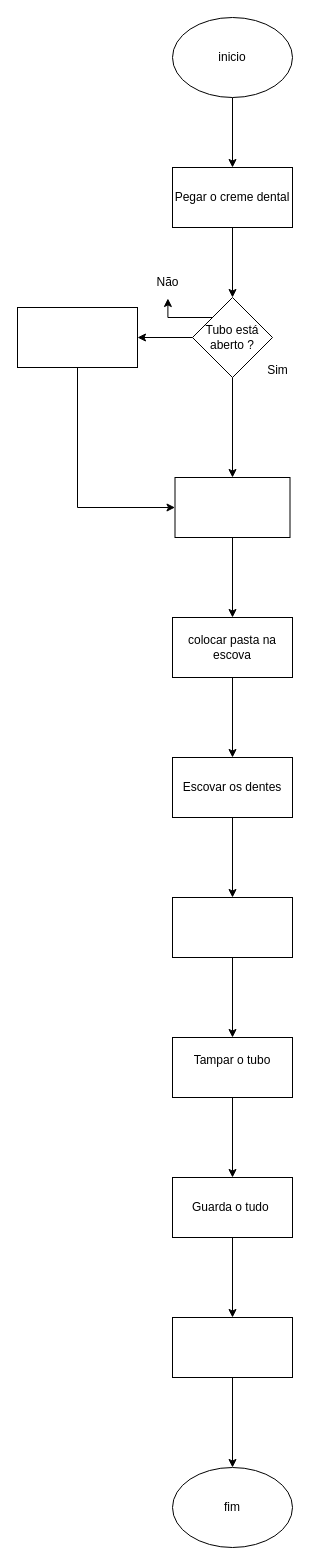
Some shapes in this 315 by 1565 pixel diagram are drawn without their labels. The box of each missing label's shape, as (x1, y1, x2, y2) in pixels:
Abrir o tubo: (16, 306, 138, 368)
enxaguar a boca: (172, 896, 292, 958)
Guardar a escova: (172, 1316, 292, 1378)
Pegar a escova: (174, 476, 290, 538)
